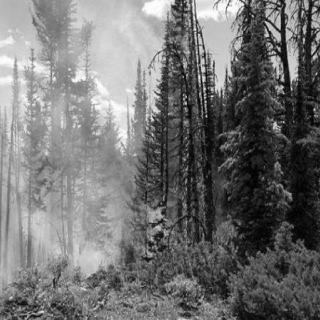Fire: (90, 2, 213, 266)
